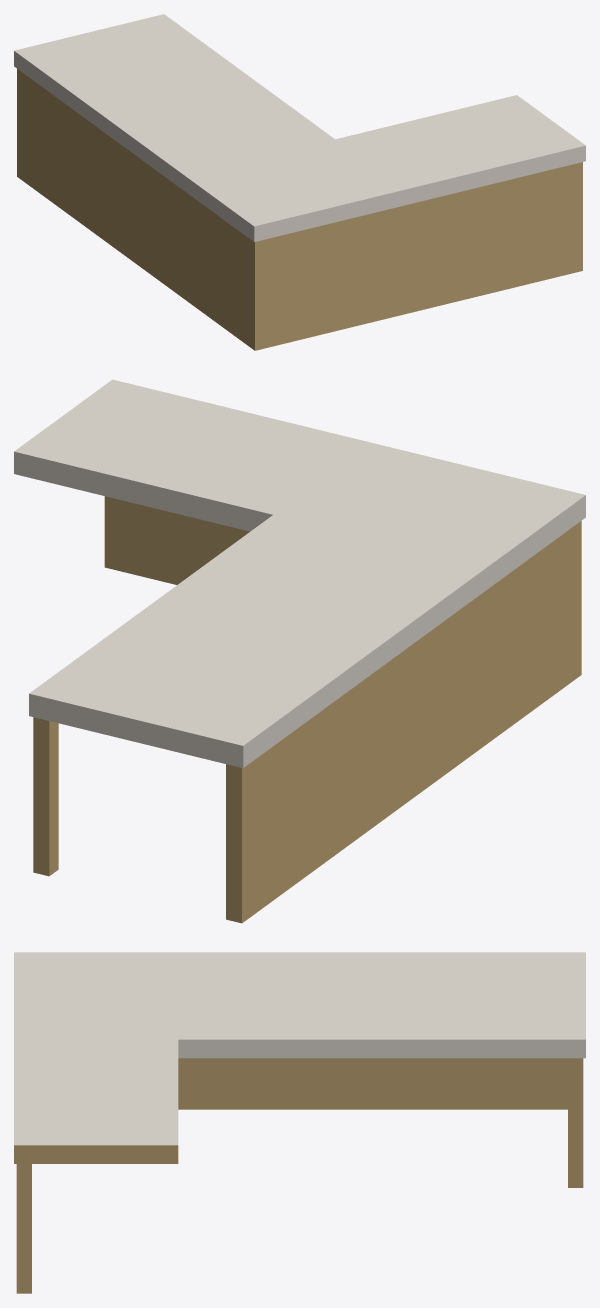
File: corner-desk.fbx
3 renders of one model, top to bottom at view 1: azimuth 30°, elevation 25°; view 2: azimuth 150°, elevation 25°; view 3: azimuth 270°, elevation 25°, orthographic. The views are drawn at different scales.
Visible parts, largest first — view 1: Cube.062; view 2: Cube.062; view 3: Cube.062.
Boxes of the visible parts, x1,y1,x2,y2 form: Cube.062: (14, 14, 585, 350); Cube.062: (14, 379, 585, 923); Cube.062: (14, 952, 585, 1293).
Size of the model in its own units: 2210 by 800 by 2771.
